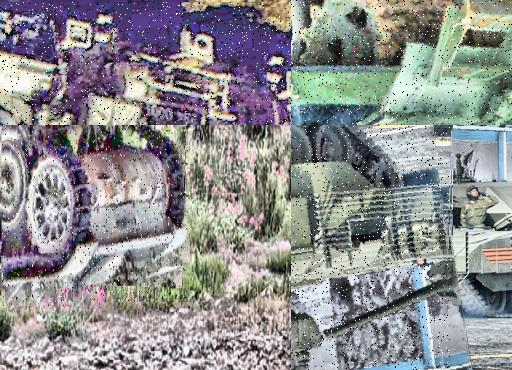tanks: (1, 9, 292, 126), (2, 126, 188, 307), (292, 1, 512, 126), (292, 126, 451, 287), (349, 178, 512, 318)
